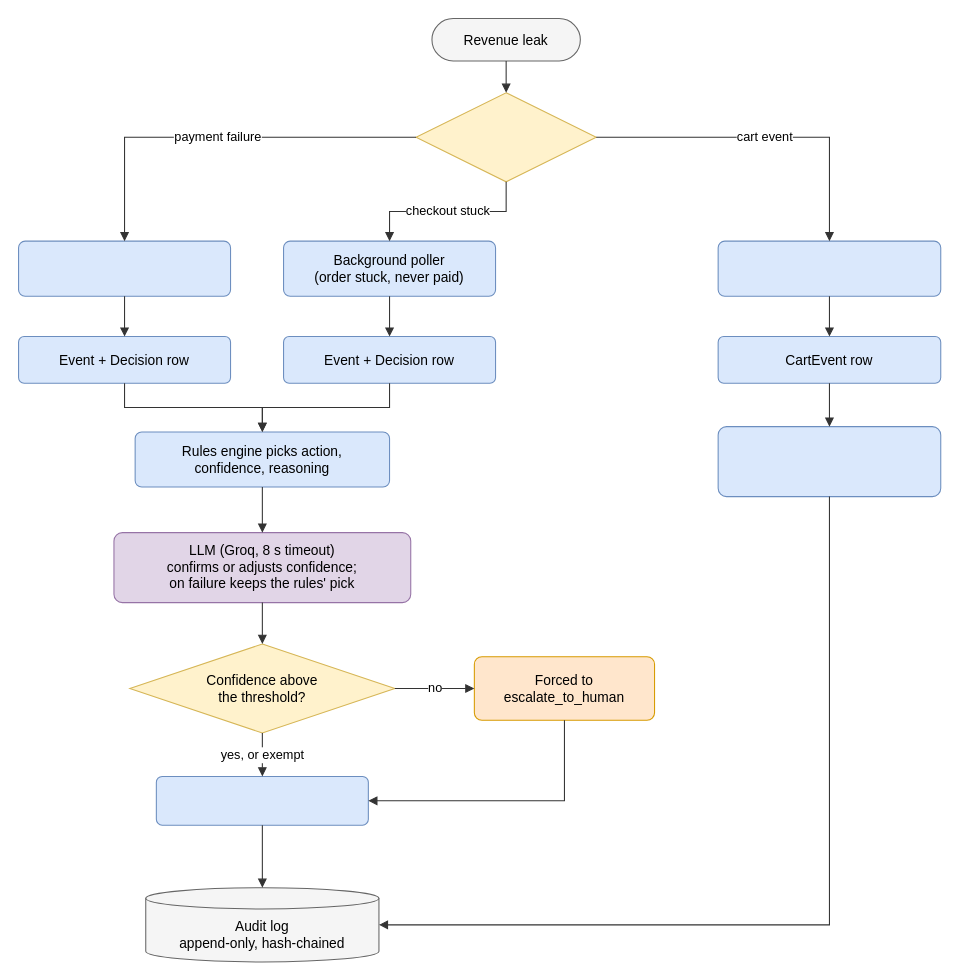
The diagram is 959 pixels wide and 980 high, and some of its shapes have lost their labels. The box of each missing label's shape, as (x1, y1, x2, y2) in pixels:
Cart event (no Razorpay order yet): (717, 240, 941, 296)
execute_action(): (155, 775, 368, 825)
Payment webhook (Razorpay, HMAC-verified): (17, 240, 231, 296)
Rules engine picks action (deterministic) No LLM · No gate: (717, 426, 941, 497)
Which source detected it?: (415, 92, 596, 182)
